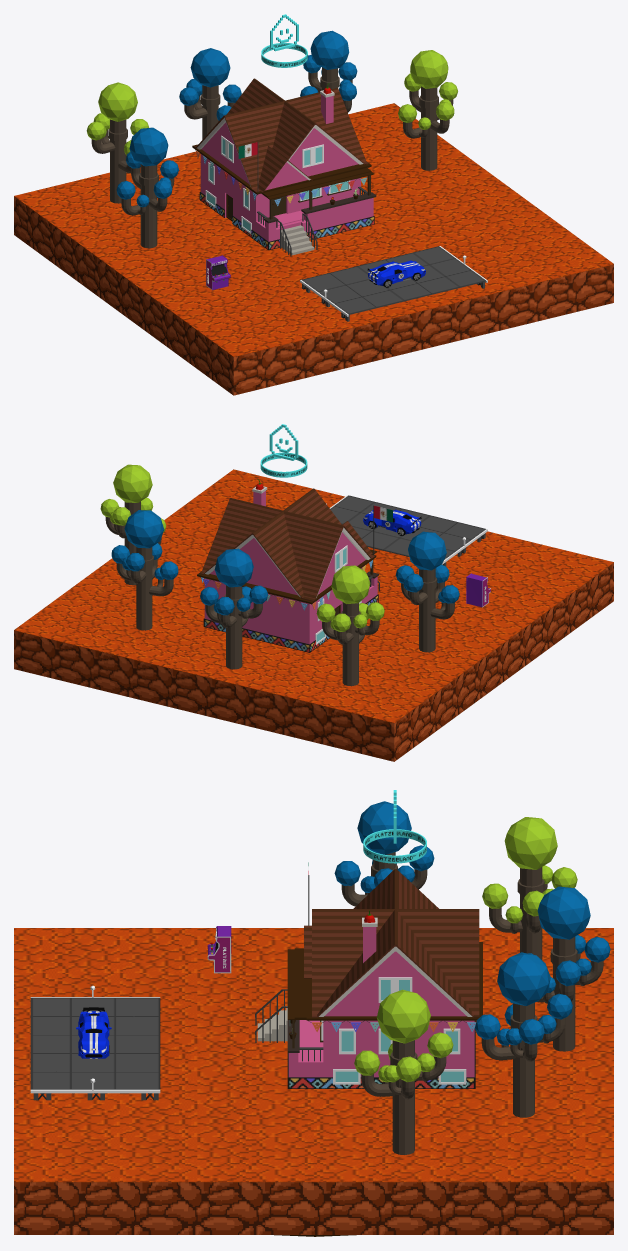
The picture shows the model from 3 angles, top to bottom: view 1: azimuth 30°, elevation 25°; view 2: azimuth 150°, elevation 25°; view 3: azimuth 270°, elevation 25°; orthographic projection. The views are drawn at different scales.
Visible parts, largest first — view 1: Cube.001, Cube.1005, VEHICLES_RACING_CAR, TYPE_PREMIUM, OBJRANDOM_ARCADE; view 2: Cube.001, Cube.1005, TYPE_PREMIUM, VEHICLES_RACING_CAR, OBJRANDOM_ARCADE; view 3: Cube.001, Cube.1005, VEHICLES_RACING_CAR, TYPE_PREMIUM, OBJRANDOM_ARCADE.
Boxes of the visible parts, <box> form: Cube.001: <box>14,30,613,395</box>; Cube.1005: <box>192,78,376,256</box>; VEHICLES_RACING_CAR: <box>367,260,425,287</box>; TYPE_PREMIUM: <box>261,14,307,67</box>; OBJRANDOM_ARCADE: <box>206,255,230,290</box>; Cube.001: <box>14,464,613,761</box>; Cube.1005: <box>197,479,392,652</box>; TYPE_PREMIUM: <box>260,424,307,477</box>; VEHICLES_RACING_CAR: <box>363,509,421,535</box>; OBJRANDOM_ARCADE: <box>466,573,490,607</box>; Cube.001: <box>14,801,613,1234</box>; Cube.1005: <box>255,862,482,1088</box>; VEHICLES_RACING_CAR: <box>76,1007,111,1058</box>; TYPE_PREMIUM: <box>363,790,426,863</box>; OBJRANDOM_ARCADE: <box>207,926,231,973</box>.
Bounding box in the file's own units: 4000 × 2476 × 4000.
Materials: 75 (7 with a texture image).
